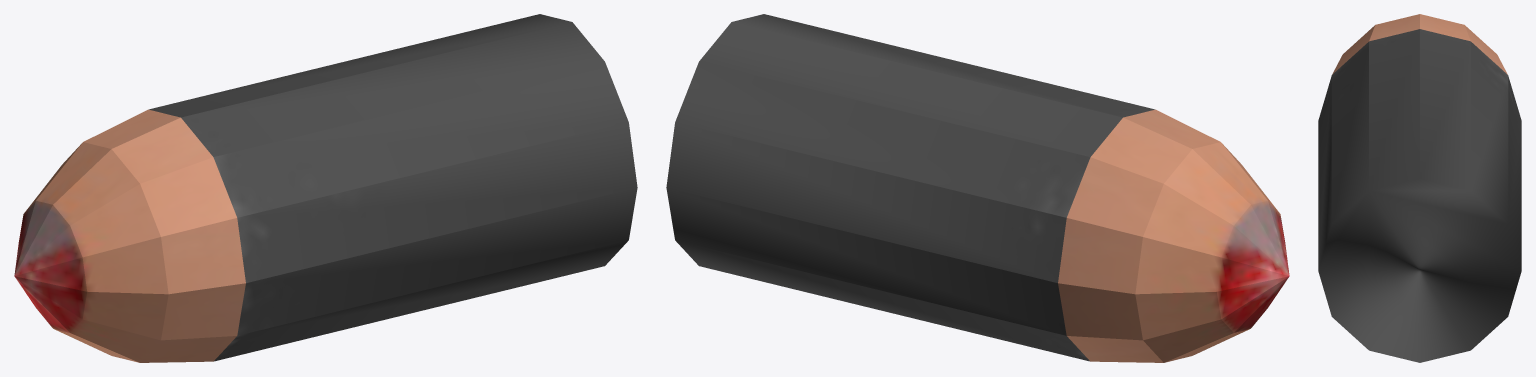
File: rocket.fbx
The picture shows the model from 3 angles, left to right: view 1: azimuth 30°, elevation 25°; view 2: azimuth 150°, elevation 25°; view 3: azimuth 270°, elevation 25°; orthographic projection. The views are drawn at different scales.
Parts seen in each view (by area): view 1: Bullets_low; view 2: Bullets_low; view 3: Bullets_low.
Part boxes in pixels (x1,y1,x2,y2): Bullets_low: (14,14,637,362); Bullets_low: (666,14,1289,362); Bullets_low: (1318,14,1521,362).
Size of the model in its own units: 0.6441 by 0.2603 by 0.2603.
